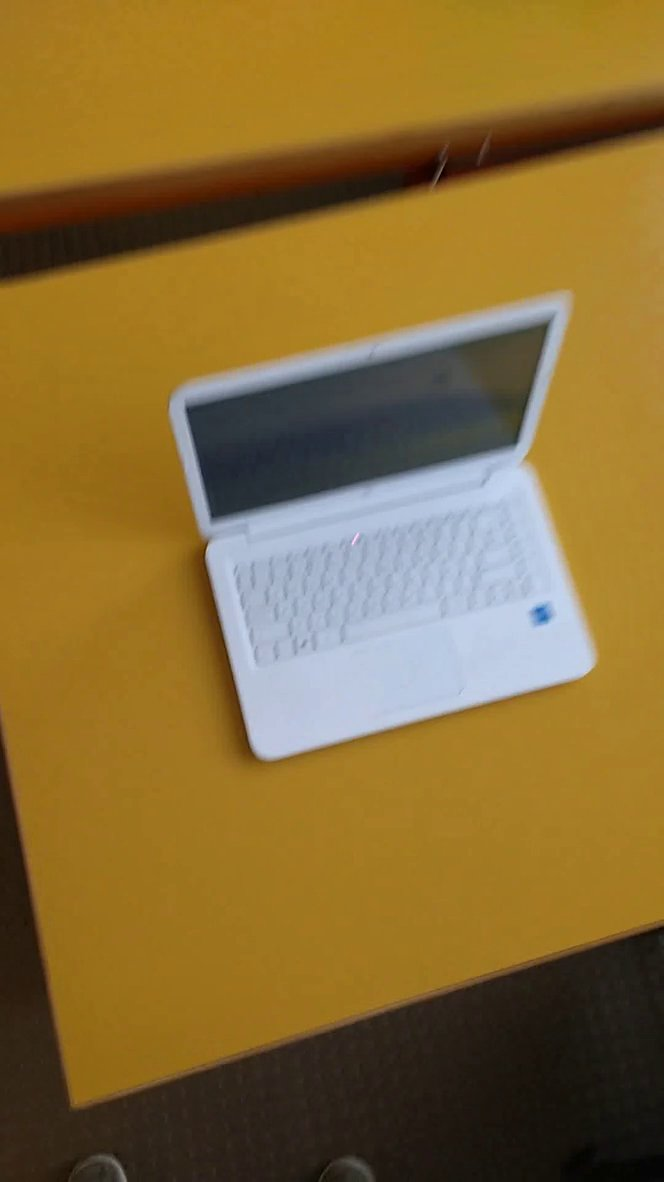laptop: (163, 285, 605, 768)
